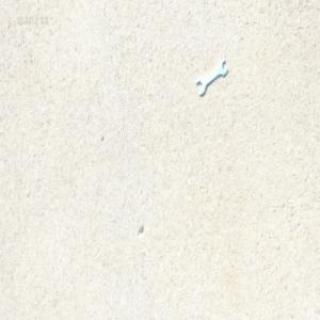Wrenchtrack_idkeyframe: (194, 61, 224, 98)
